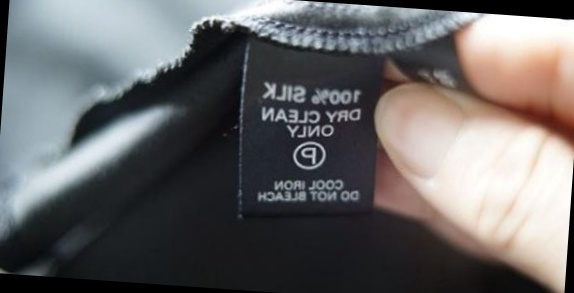dry_clean_any_solvent_except_trichloroethylene: (290, 138, 326, 171)
